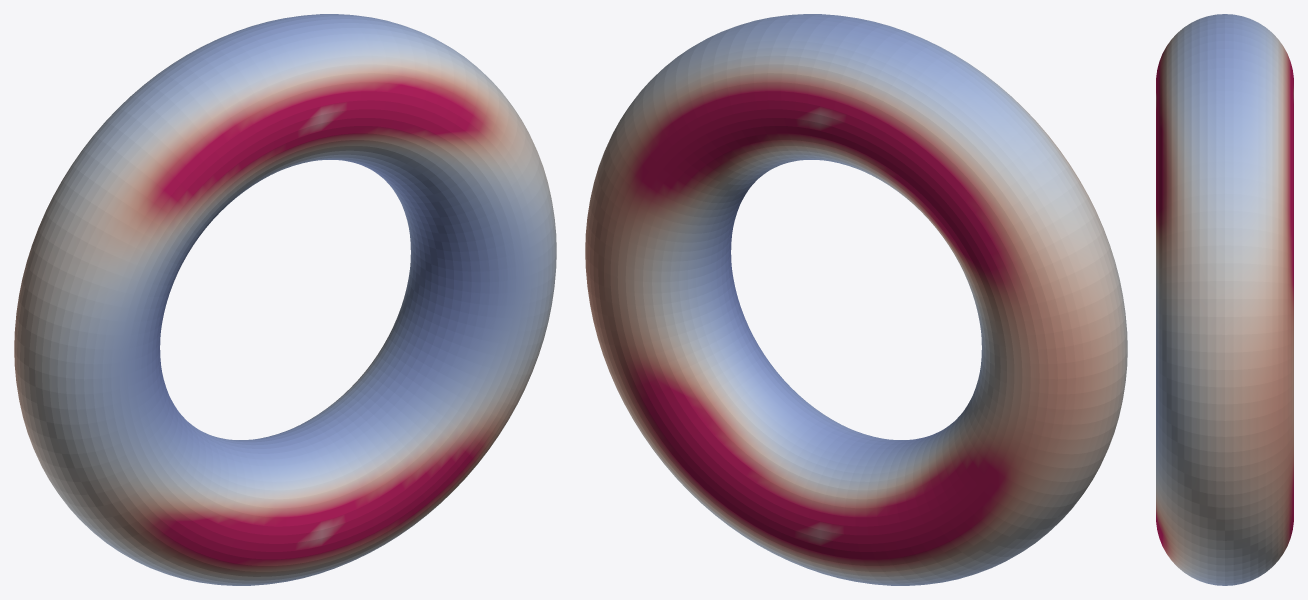
3 views of the same model, side by side, from view 1: azimuth 30°, elevation 25°; view 2: azimuth 150°, elevation 25°; view 3: azimuth 270°, elevation 25° (orthographic). The views are drawn at different scales.
Parts seen in each view (by area): view 1: world; view 2: world; view 3: world.
Part boxes in pixels (x1,y1,x2,y2): world: [14, 14, 556, 585]; world: [585, 14, 1127, 585]; world: [1156, 14, 1293, 585].
Bounding box in the file's own units: 23.73 × 23.73 × 5.72.
